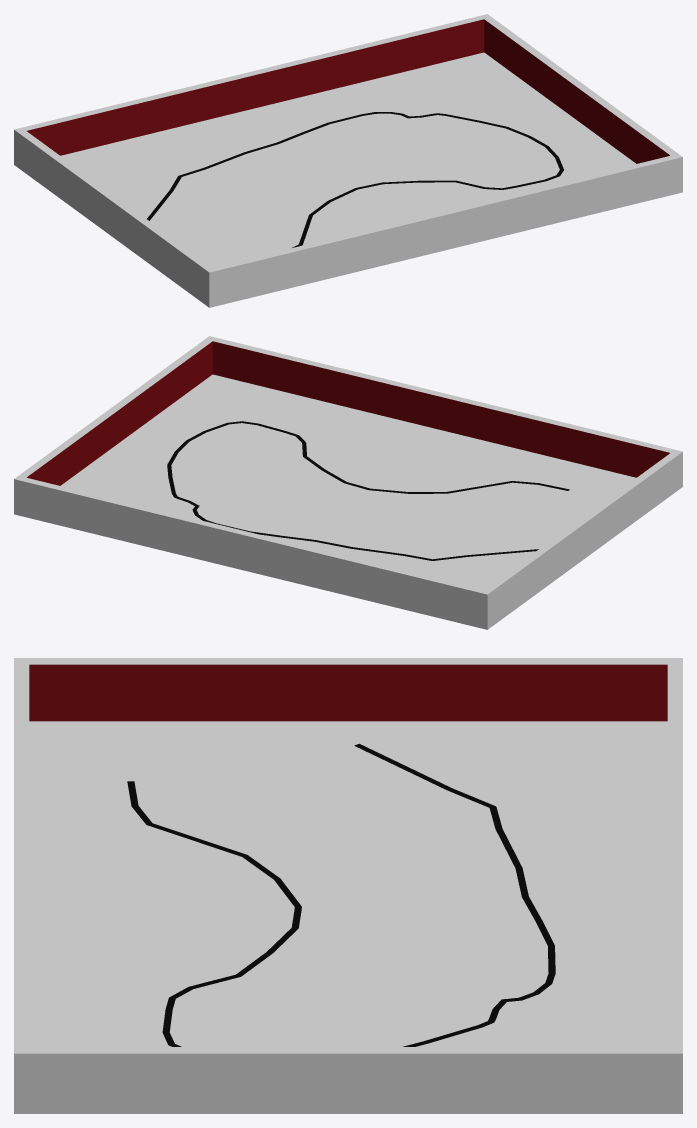
The model's file is map.dae.
3 views of the same model, one above another, from view 1: azimuth 30°, elevation 25°; view 2: azimuth 150°, elevation 25°; view 3: azimuth 270°, elevation 25° (orthographic). The views are drawn at different scales.
Visible parts, largest first — view 1: SketchUp (×4); view 2: SketchUp (×4); view 3: SketchUp (×4).
Boxes of the visible parts, <box> form: SketchUp (×4): <box>14,14,682,307</box>; SketchUp (×4): <box>14,336,682,629</box>; SketchUp (×4): <box>14,658,682,1113</box>.
Size of the model in its own units: 547 by 391 by 38.98.
